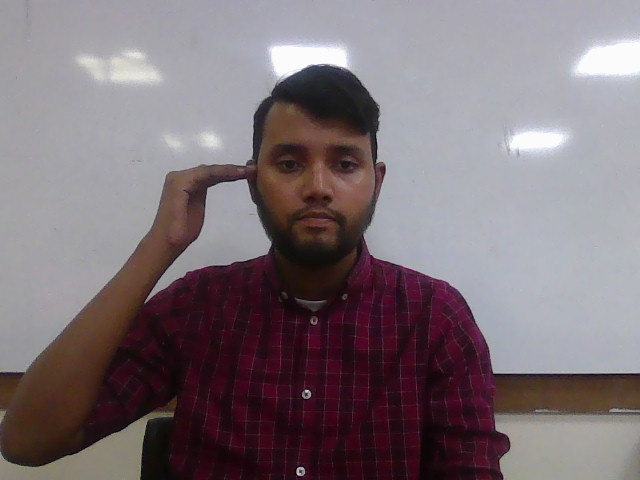Prottibondhi: (156, 162, 259, 248)
